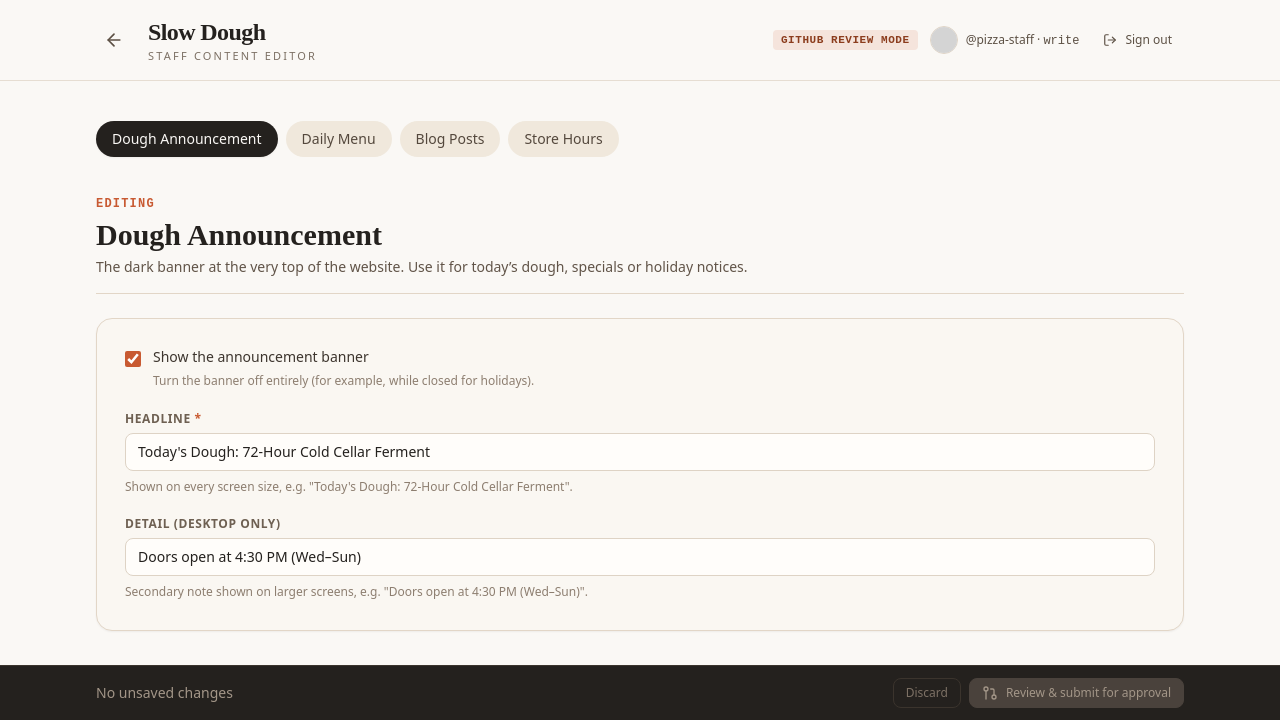
Test case: EditorApp – GitHub review mode (production) › lists posts newest first in the editor
The width and height of the screenshot is (1280, 720).
Click the button "Blog Posts".
click(450, 139)  # box left=400, top=121, right=500, bottom=157
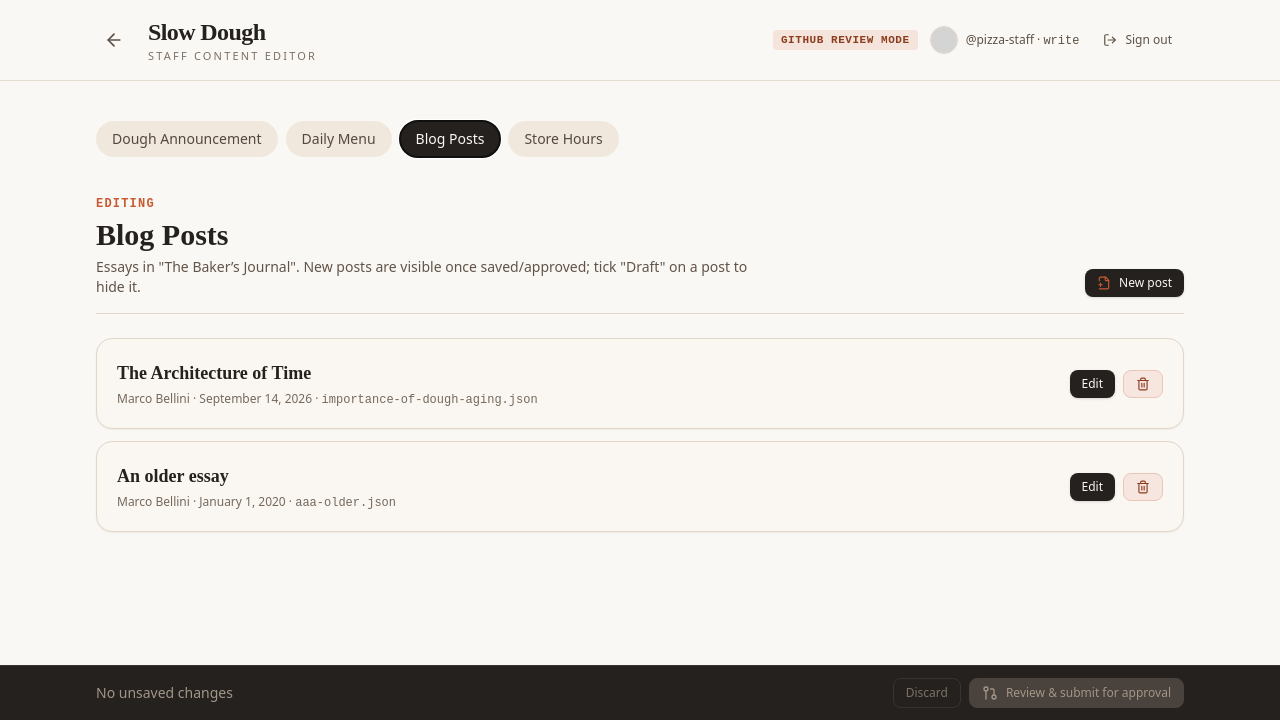
Check: the headings read "The Architecture of Time", "An older essay", in this order, box left=117, top=359, right=311, bottom=387; left=117, top=462, right=229, bottom=490
